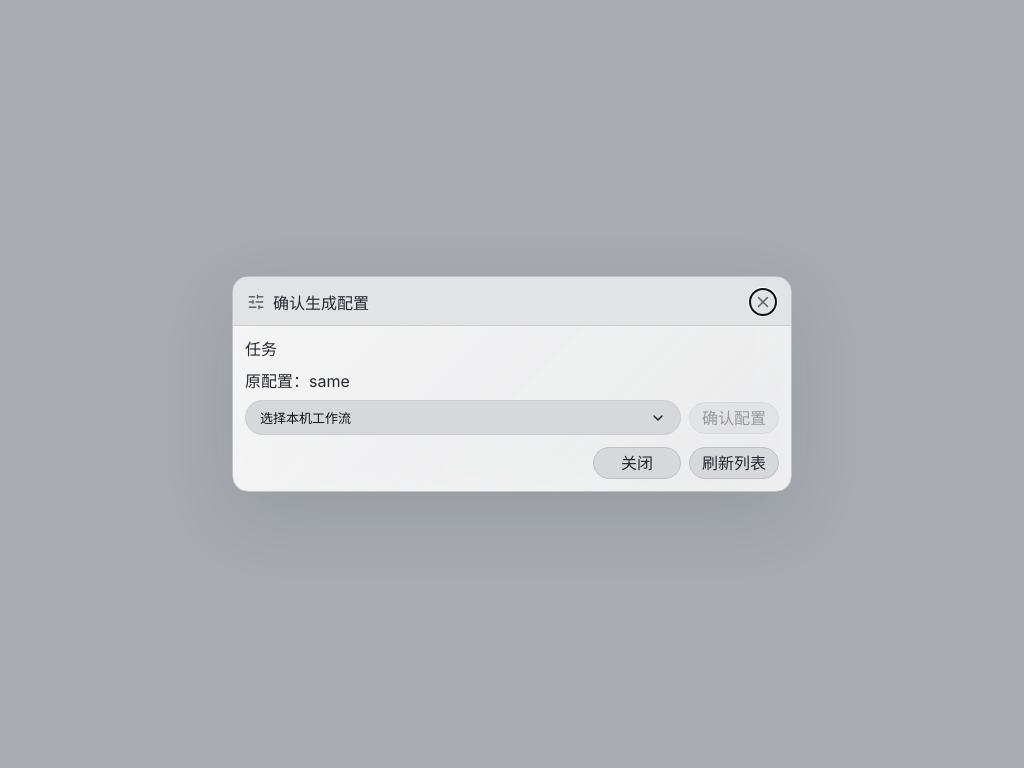
does not preselect matching names and explicitly confirms the task revision
The image size is (1024, 768).
Expected: the button "确认配置" is disabled, [689,402,779,434]
Click the dropdown at (306, 418), box [245,400,681,435]
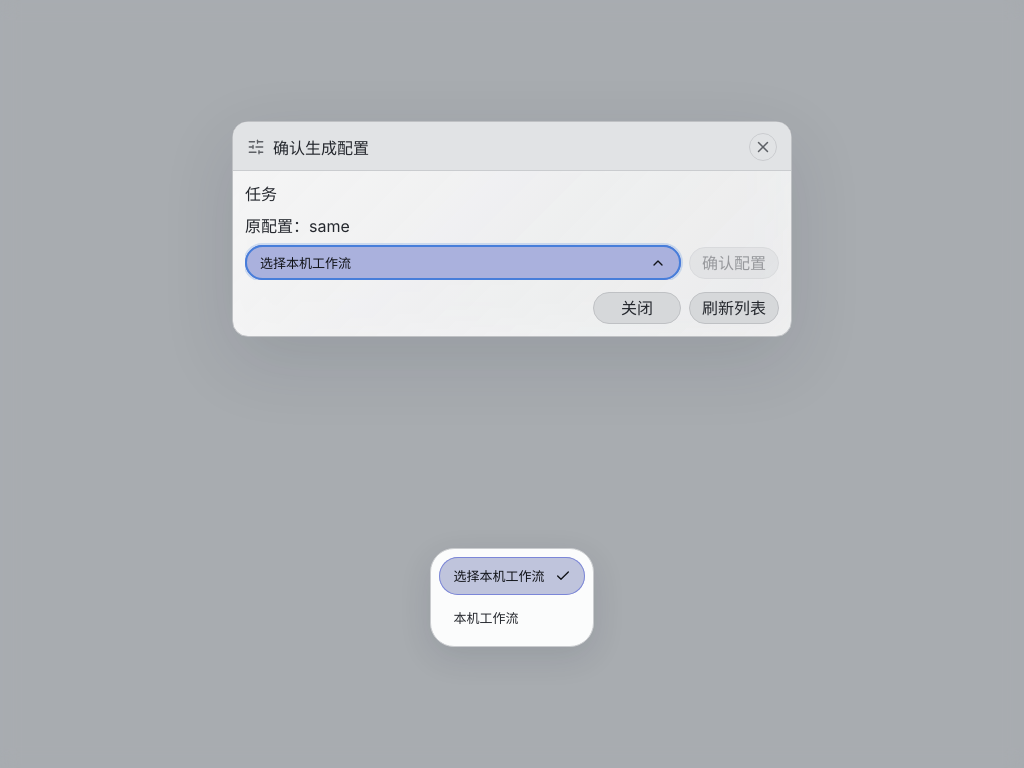
Click the option "本机工作流" at (512, 618), box [440,599,584,638]
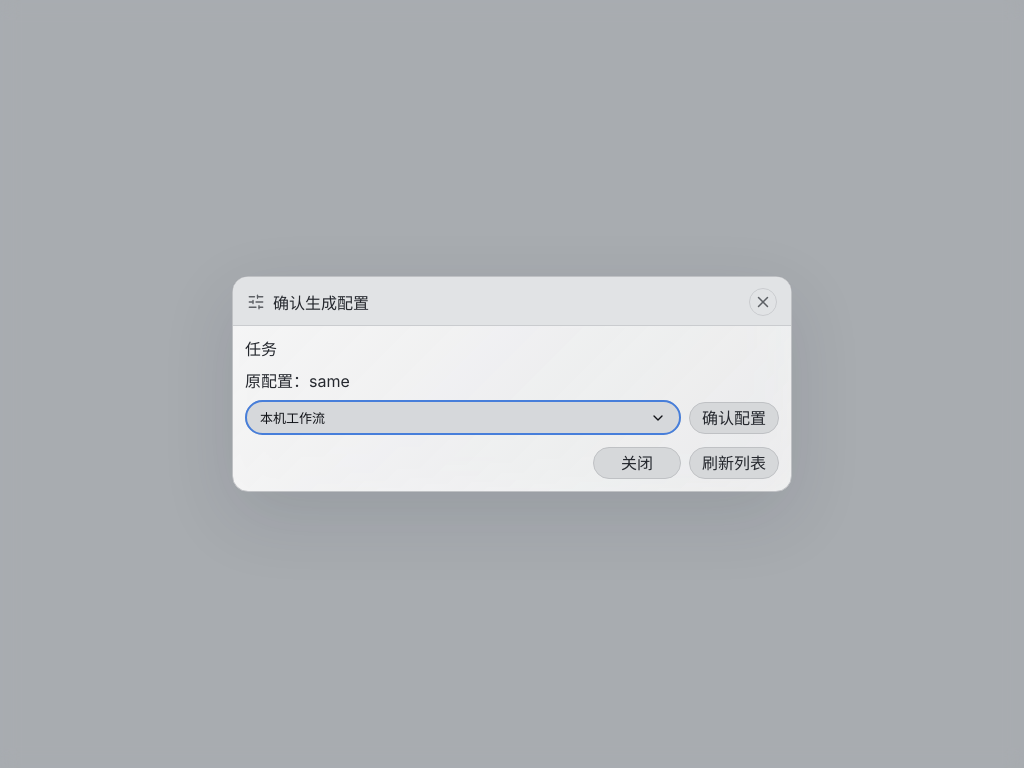
Click the button "确认配置" at (734, 418), box [689,402,779,434]
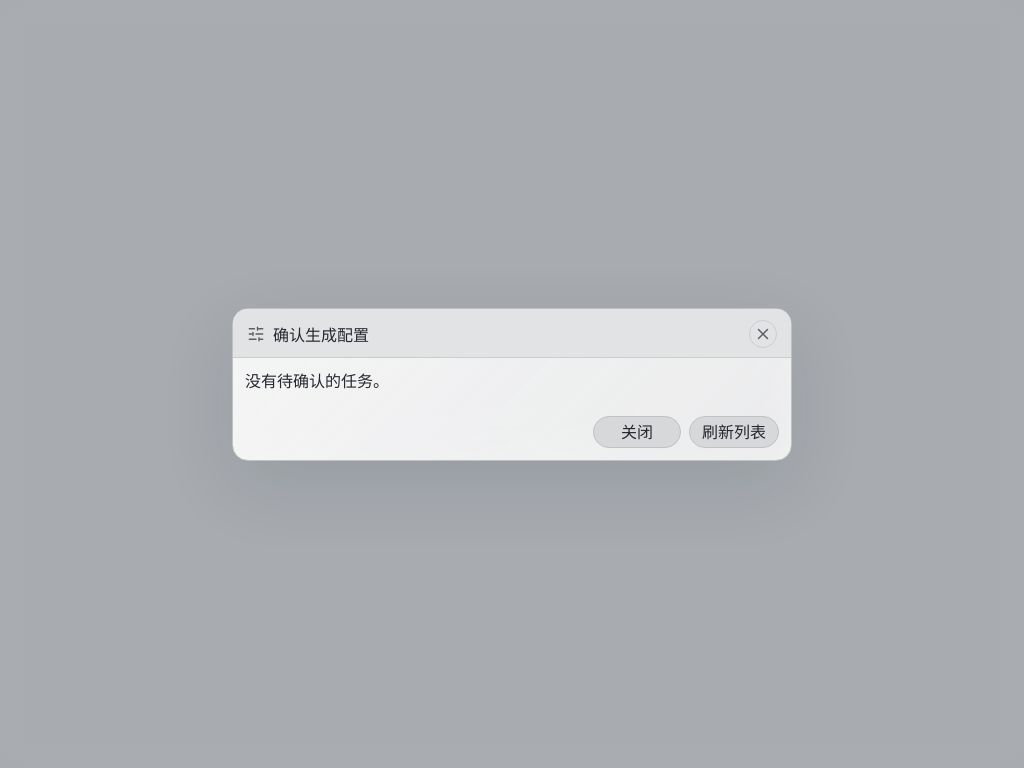
Expected: the message shows "没有待确认的任务", [245,370,389,390]
